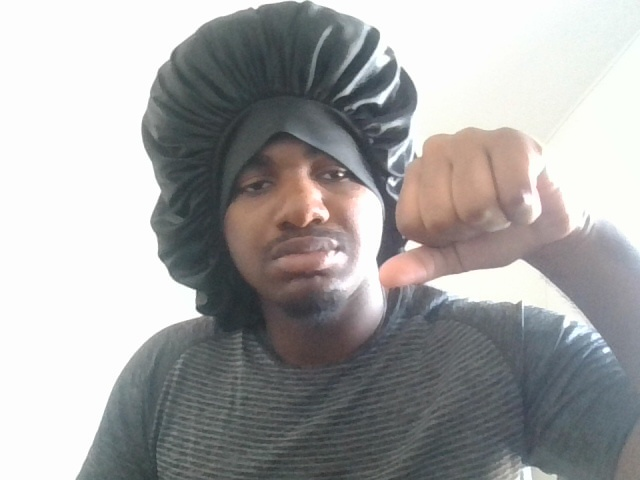Yes: (385, 118, 597, 312)
